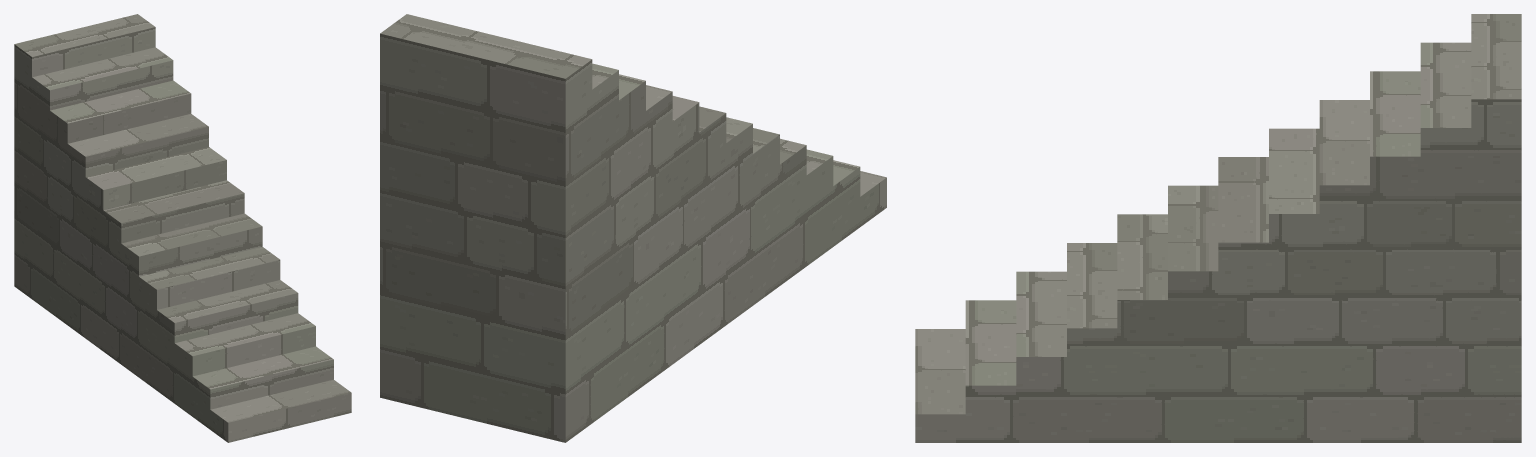
File: mural_stair.glb
3 renders of one model, left to right at view 1: azimuth 30°, elevation 25°; view 2: azimuth 150°, elevation 25°; view 3: azimuth 270°, elevation 25°, orthographic. The views are drawn at different scales.
Parts seen in each view (by area): view 1: Mural stair; view 2: Mural stair; view 3: Mural stair.
Part boxes in pixels (x1,y1,x2,y2): Mural stair: (14,14,351,442); Mural stair: (380,14,886,442); Mural stair: (915,14,1521,442).
Size of the model in its own units: 1 by 1.88 by 3.
Materials: 1 (1 with a texture image).
